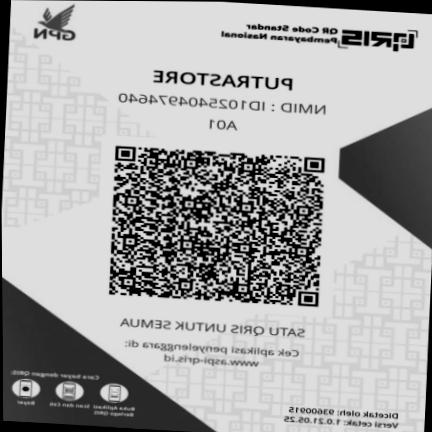Qris-Positioning: (2, 0, 432, 432)
